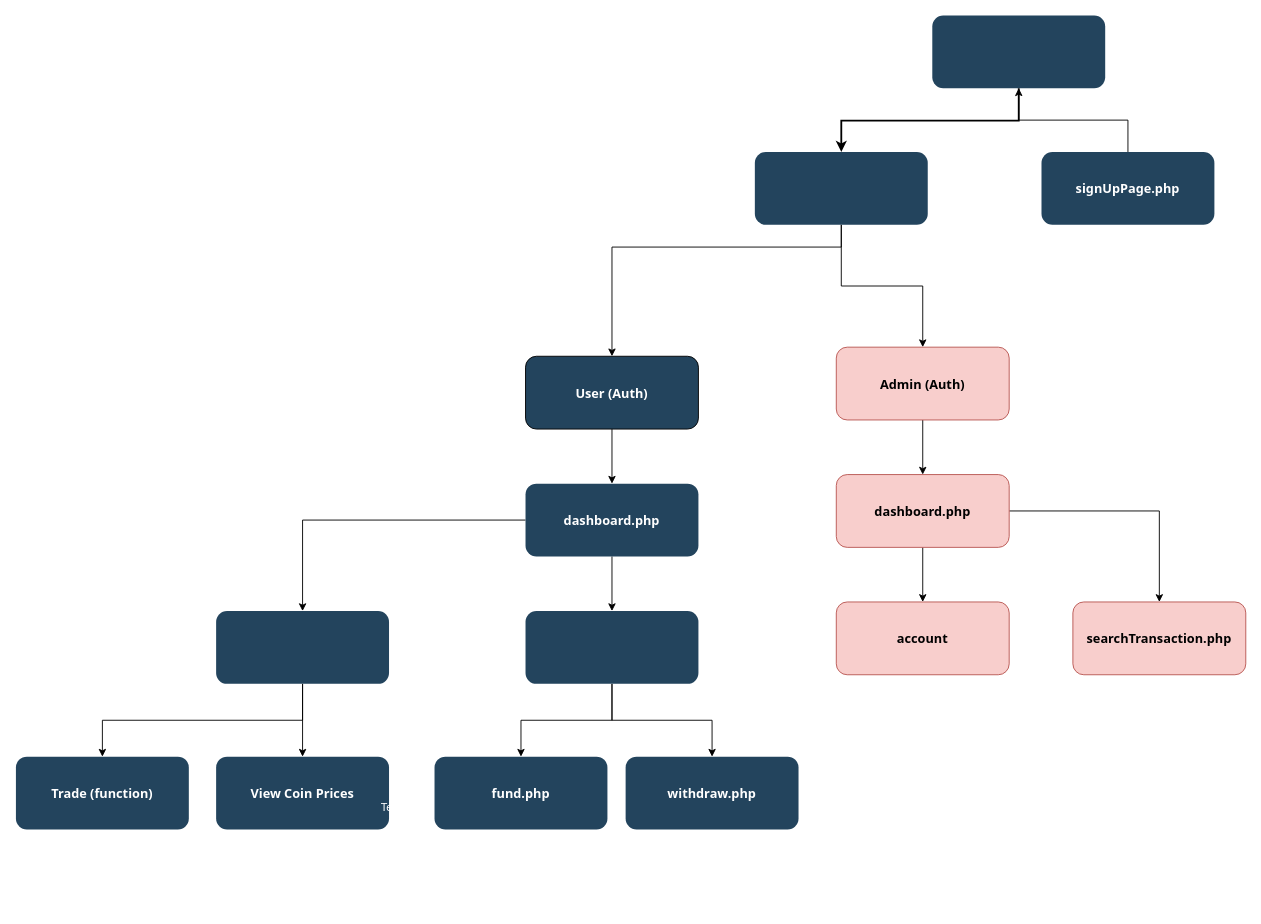
Image size: 1261x924. Some labels were removed from this diagram. The centre of each missing label's shape, as x and y in pixels:
"coinMarket.php" belongs at (x=302, y=647).
"index.php" belongs at (x=1018, y=51).
"signInPage.php" belongs at (x=840, y=188).
"Wallet (Dropdown Menu)" belongs at (x=611, y=647).
